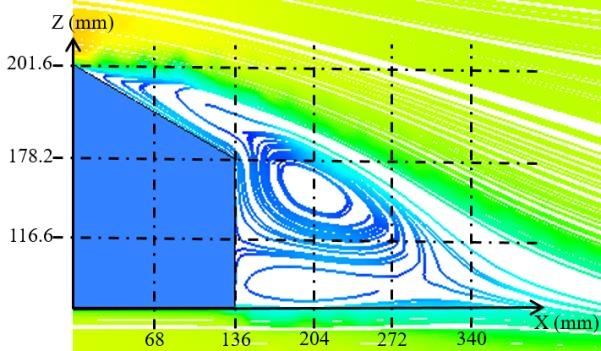vortox: (237, 131, 420, 263)
